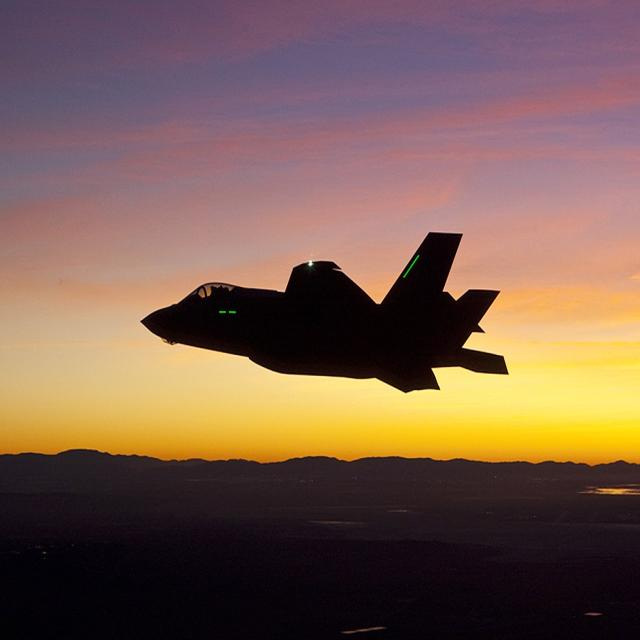MIL_Plane: (140, 230, 510, 395)
